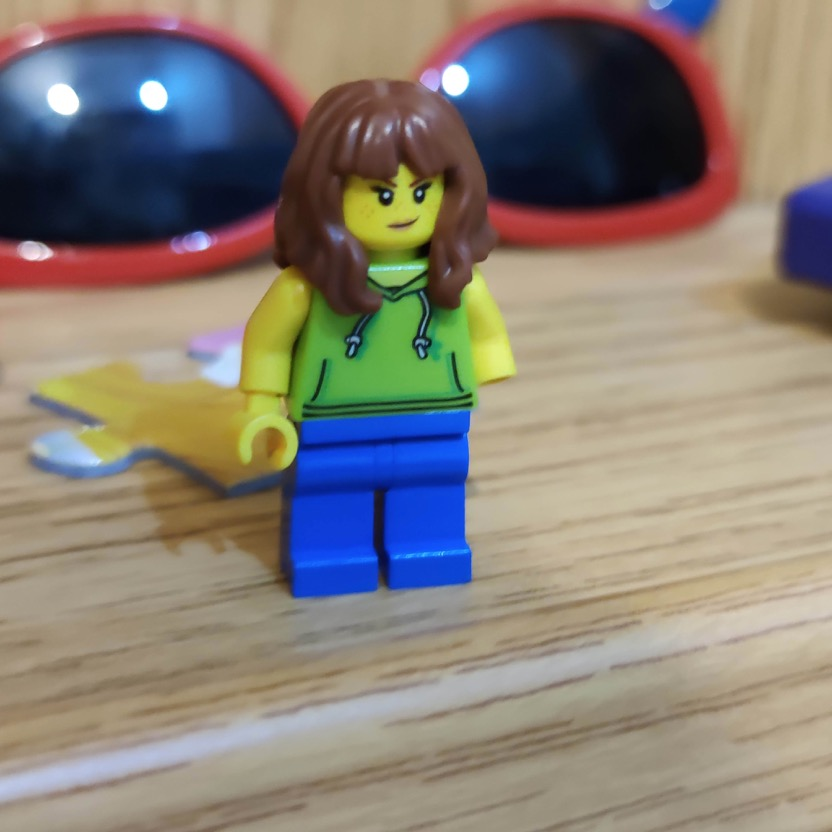lego: (235, 78, 518, 600)
